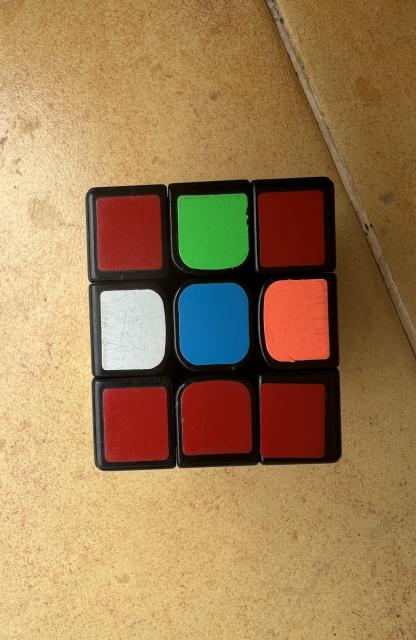Blue: (179, 282, 249, 365)
Green: (178, 194, 249, 270)
Orange: (263, 279, 330, 362)
Red: (181, 380, 252, 455), (258, 190, 325, 268), (96, 195, 162, 271), (103, 386, 169, 462), (260, 384, 325, 459)
White: (101, 289, 166, 370)
